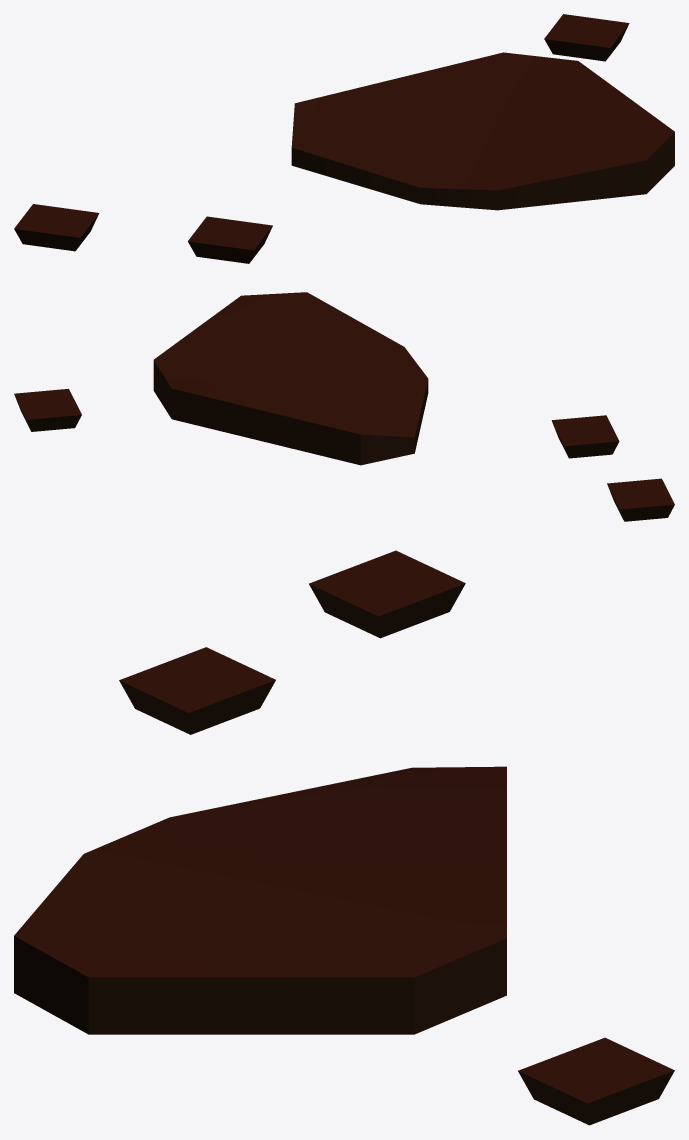
The model's file is Piedra1.fbx.
The picture shows the model from 3 angles, top to bottom: view 1: azimuth 30°, elevation 25°; view 2: azimuth 150°, elevation 25°; view 3: azimuth 270°, elevation 25°; orthographic projection. The views are drawn at different scales.
Visible parts, largest first — view 1: Mesh; view 2: Mesh; view 3: Mesh.
Boxes of the visible parts, bbox=[...] form: Mesh: bbox=[14, 14, 674, 263]; Mesh: bbox=[14, 292, 674, 521]; Mesh: bbox=[14, 550, 674, 1125].
Bounding box in the file's own units: 269 × 16 × 136.
